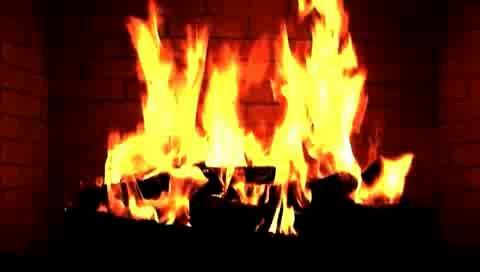fire: (103, 2, 412, 235)
